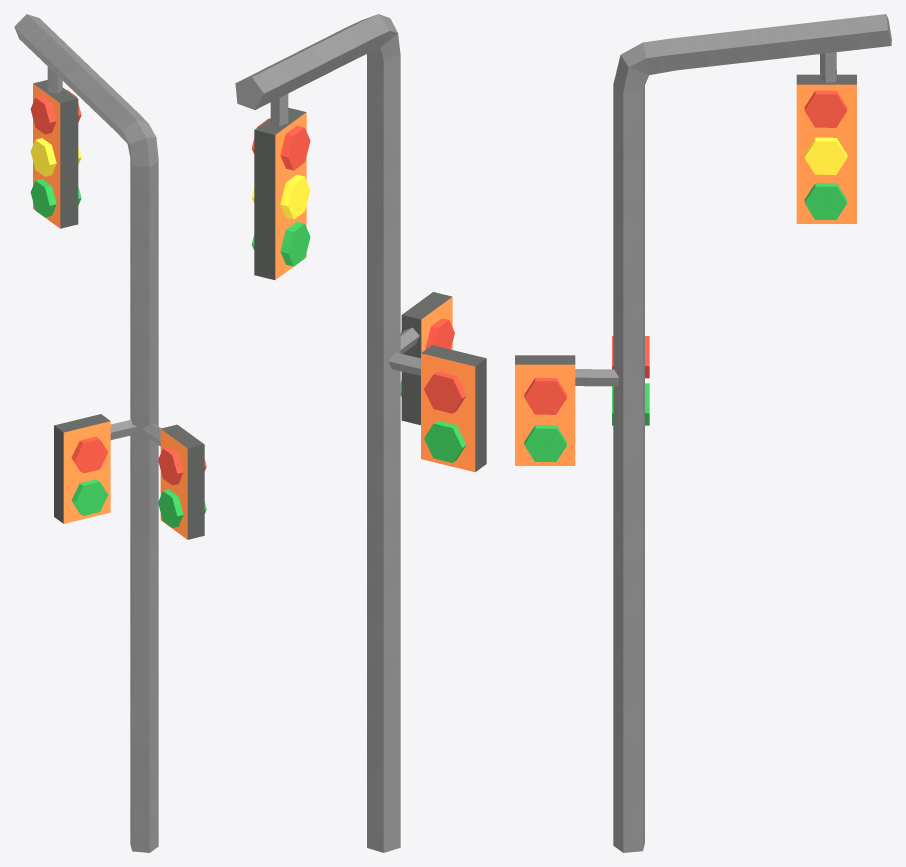
Rendered from stolb.001.glb.
The picture shows the model from 3 angles, left to right: view 1: azimuth 30°, elevation 25°; view 2: azimuth 150°, elevation 25°; view 3: azimuth 270°, elevation 25°; orthographic projection. The views are drawn at different scales.
Parts seen in each view (by area): view 1: stolb.001(Clone); view 2: stolb.001(Clone); view 3: stolb.001(Clone).
Boxes of the visible parts, x1,y1,x2,y2 form: stolb.001(Clone): (14,14,206,852); stolb.001(Clone): (235,14,486,852); stolb.001(Clone): (515,14,891,852).
Size of the model in its own units: 0.6875 by 4.88 by 2.
1 material, 1 textured.
